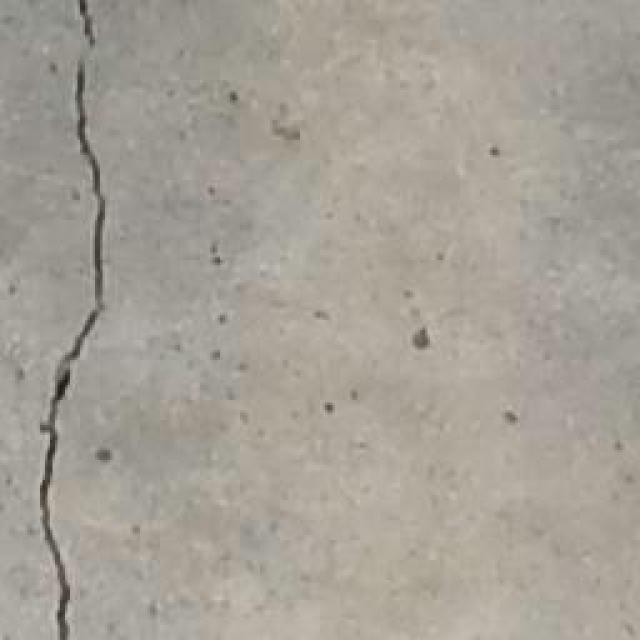concrete-crack: (38, 0, 108, 640)
